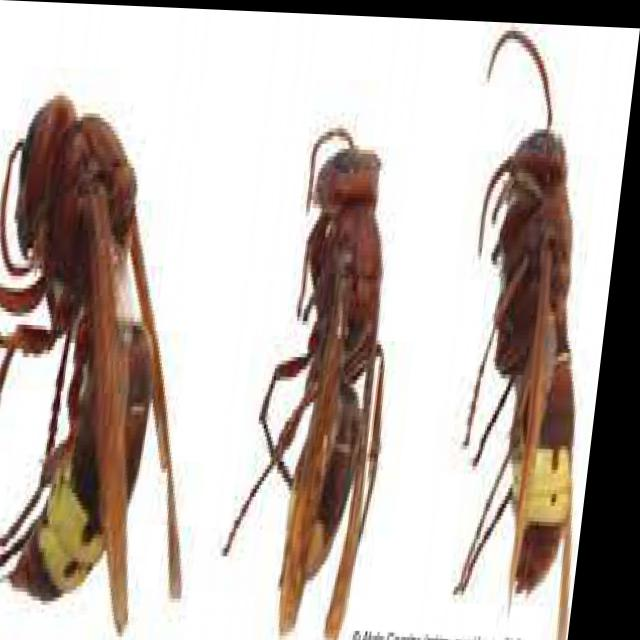Vespa Orientalis: (0, 34, 254, 639), (408, 16, 638, 639), (216, 98, 432, 639)
